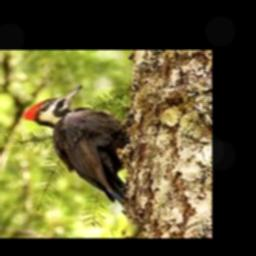Woodpecker: (23, 85, 131, 205)
